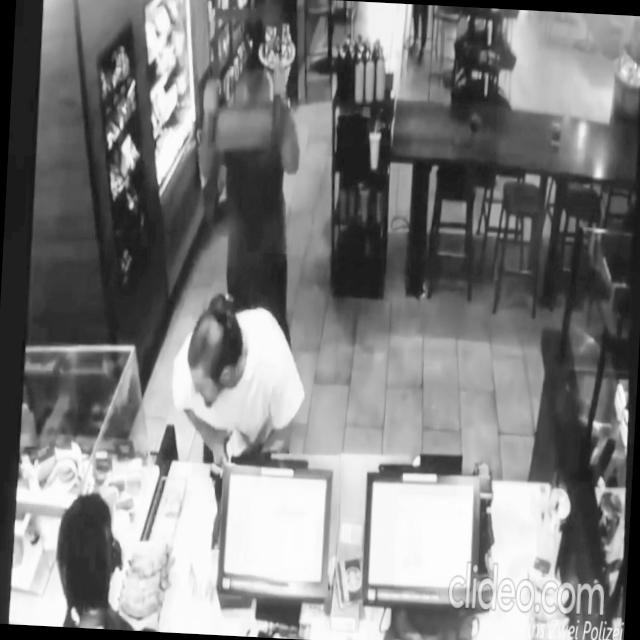person: (186, 56, 308, 357), (167, 298, 308, 470), (51, 485, 166, 632), (406, 5, 434, 70)
